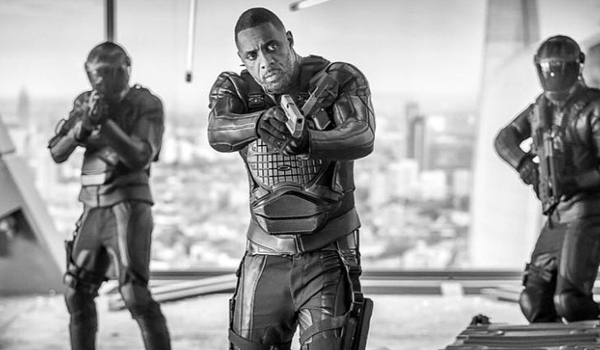gun: (520, 92, 568, 218), (270, 89, 313, 147)
